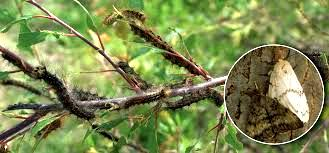Caterpillar: (32, 62, 96, 120), (166, 86, 223, 112), (160, 51, 203, 76), (130, 27, 176, 49), (99, 4, 148, 24), (118, 59, 148, 90), (67, 84, 108, 103)
